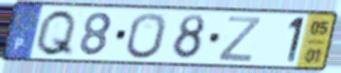1: (283, 15, 308, 67)
8: (168, 13, 206, 62), (78, 11, 114, 58)
O: (124, 11, 169, 60)
Q: (32, 8, 80, 59)
Z: (215, 14, 265, 64)
